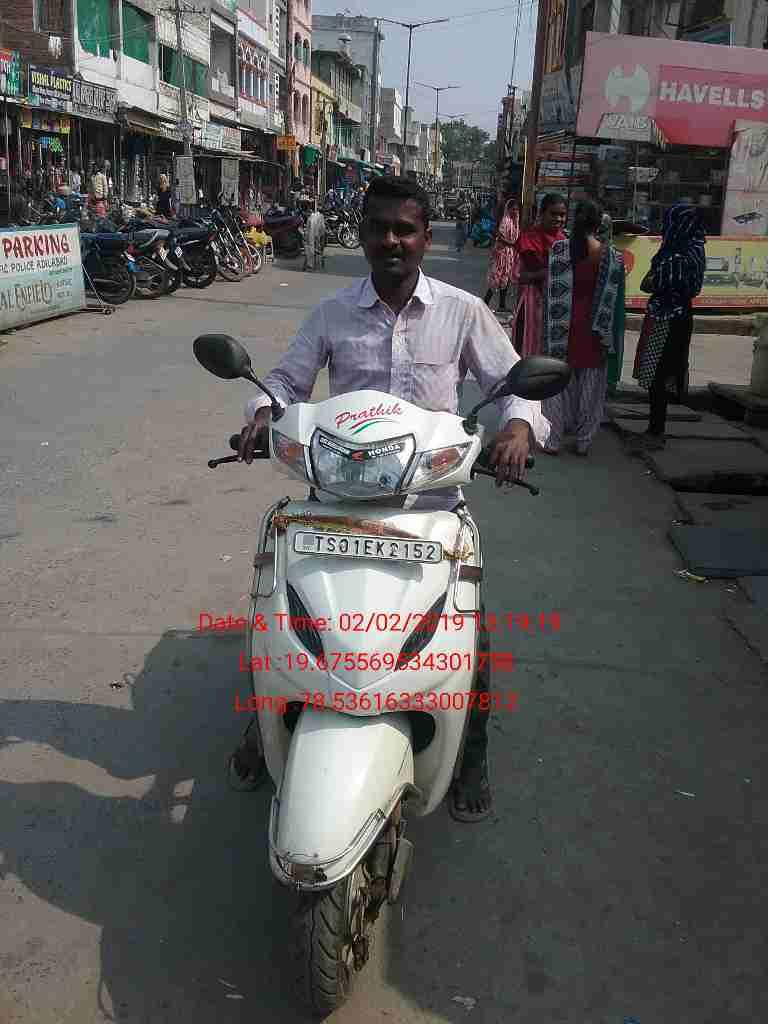plate: (283, 533, 447, 575)
